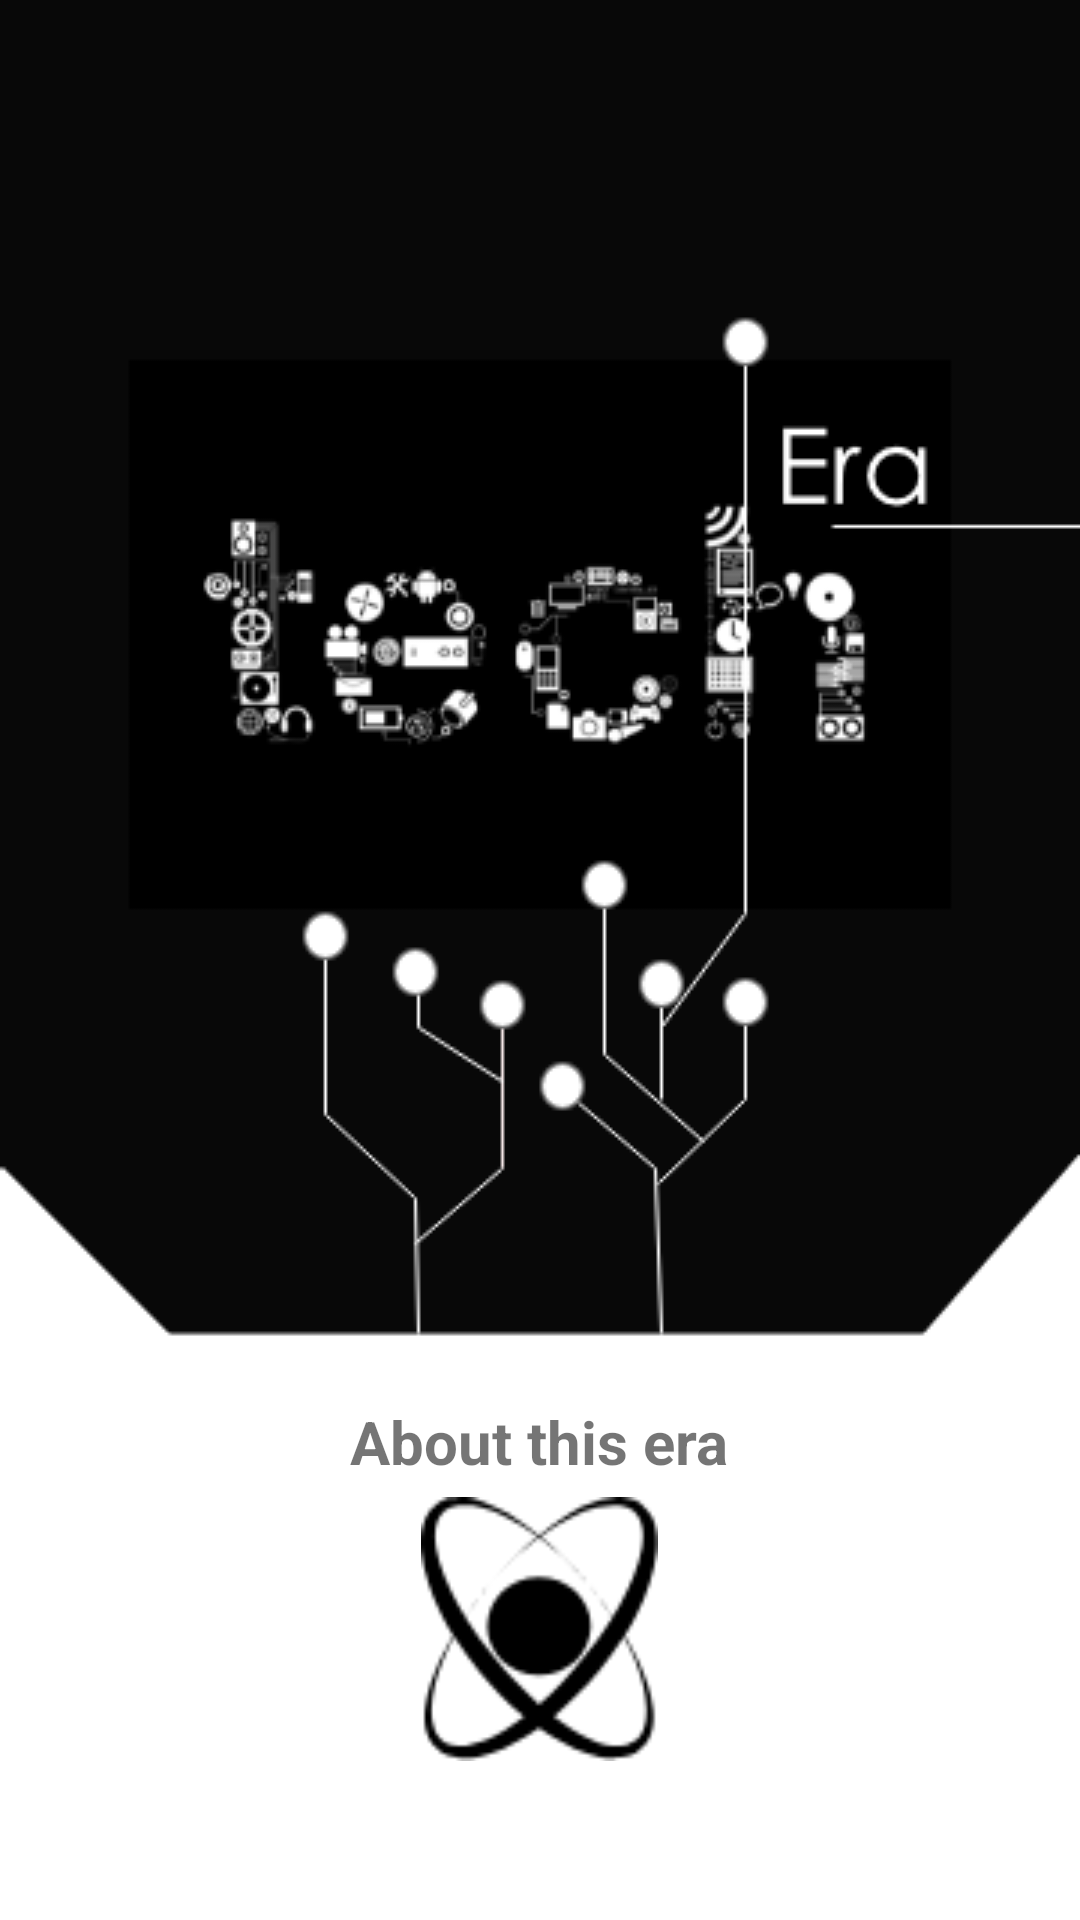

Where icons sit on this 1080w x 1920h app screen, as (x1, y1, x2, y2):
atomshape: (421, 1497, 658, 1761)
